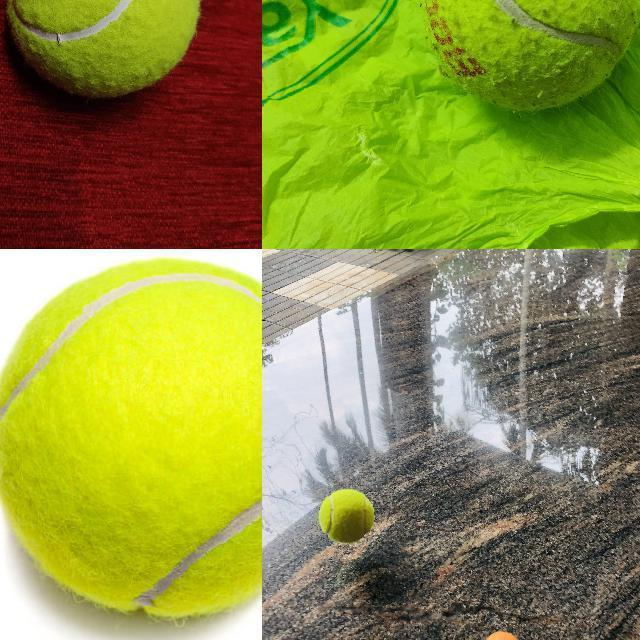tennis-ball: (0, 257, 261, 621), (420, 0, 639, 113), (5, 0, 200, 99), (319, 489, 373, 542)
